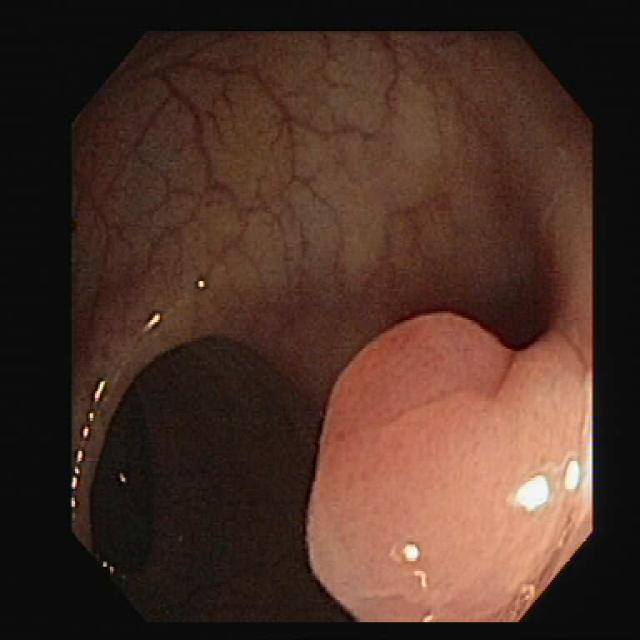tumor: (308, 264, 590, 620)
